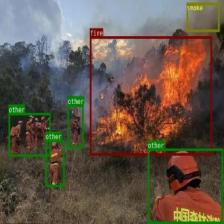fire: (90, 36, 212, 155)
smoke: (186, 2, 219, 31)
